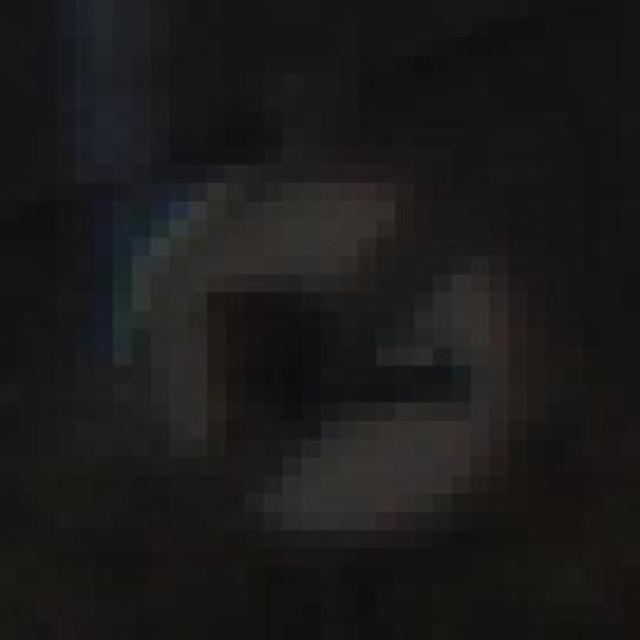Overtaking by trucks is prohibited: (112, 146, 565, 568)
